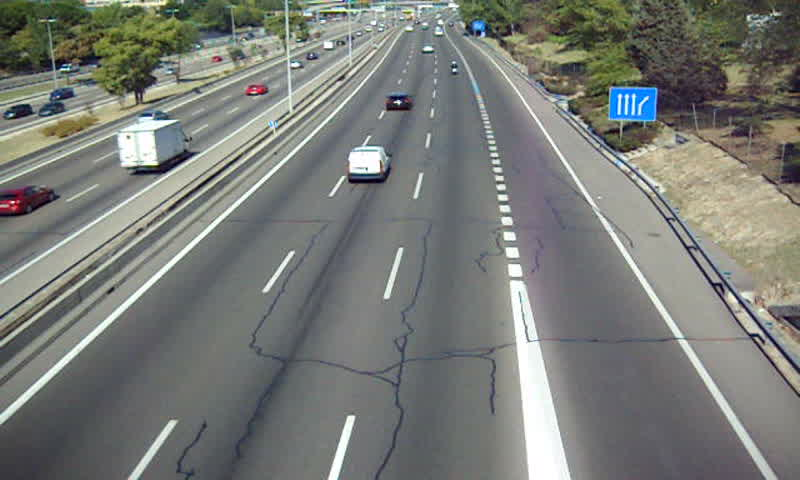car: (386, 94, 413, 112)
motorcycle: (450, 61, 460, 77)
van: (347, 147, 392, 180)
